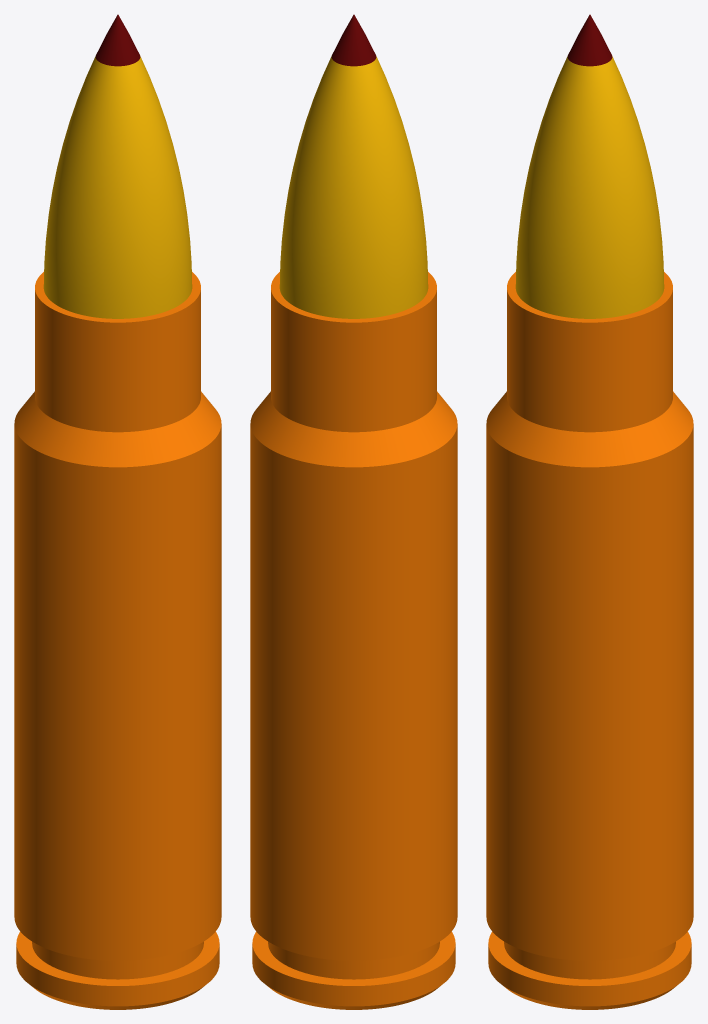
3 renders of one model, left to right at view 1: azimuth 30°, elevation 25°; view 2: azimuth 150°, elevation 25°; view 3: azimuth 270°, elevation 25°, orthographic.
Visible parts, largest first — view 1: group_1 (×2), group_0 (×2); view 2: group_1 (×2), group_0 (×2); view 3: group_1 (×2), group_0 (×2).
Part boxes in pixels (left/top/right/bottom): group_1 (×2): left=14, top=272, right=221, bottom=1009; group_0 (×2): left=43, top=14, right=192, bottom=318; group_1 (×2): left=250, top=272, right=457, bottom=1009; group_0 (×2): left=279, top=14, right=428, bottom=318; group_1 (×2): left=486, top=272, right=693, bottom=1009; group_0 (×2): left=515, top=14, right=664, bottom=318.
Size of the model in its own units: 1.51 by 1.51 by 7.69.
